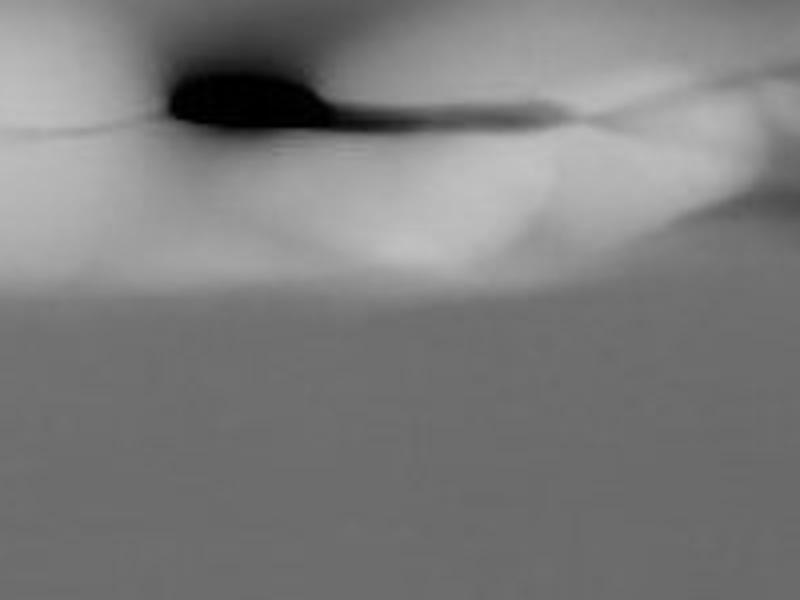defect: (165, 71, 339, 137)
